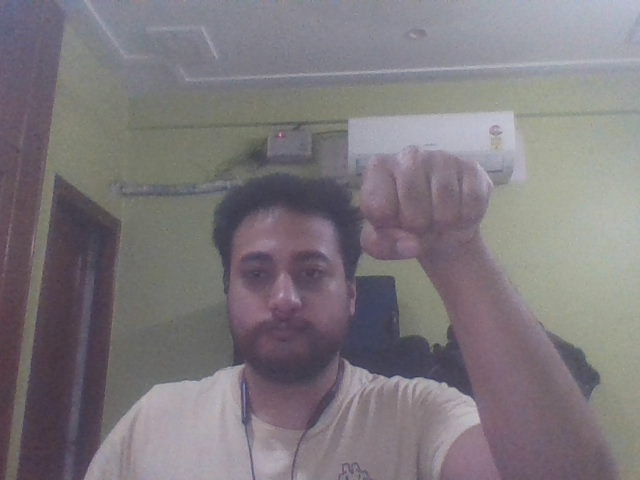Yes: (311, 130, 541, 293)
